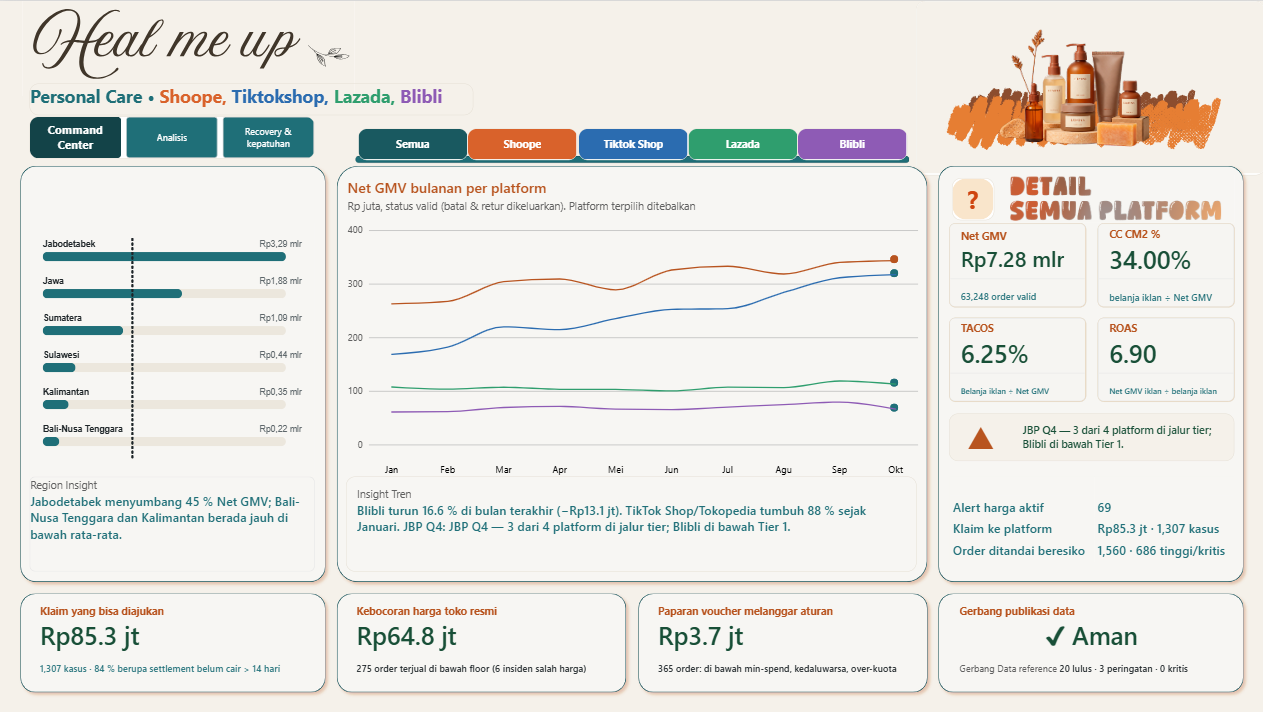

Layout of this report page (visuals, bound fields, positions):
{"tool":"powerbi","page":{"name":"Command Center","canvas":[1920,1080],"ordinal":0},"visuals":[{"type":"image","title":"gambar kanan atas","box":[1389.9,0,527.7,263.9],"z":0},{"type":"shape","title":"shape detail semua platform","box":[1416,240,480,648],"z":1000},{"type":"image","title":"Judul","box":[24,0,528,144],"z":2000},{"type":"pageNavigator","box":[48,176,432,64],"z":3000},{"type":"shape","title":"garis warna plat sel","box":[541,235,840,12],"z":4000},{"type":"shape","box":[24,240,480,648],"z":6000},{"type":"shape","box":[504,240,912,648],"z":7000},{"type":"cardVisual","title":"net gmv card","fields":{"Data":["_Measures.Rp Ringkas (CC Net GMV)"]},"box":[1440,336,208,128],"z":8000},{"type":"cardVisual","title":"cc cm2 card","fields":{"Data":["_Measures.CC CM2 %"]},"box":[1664,336,208,128],"z":9000},{"type":"cardVisual","title":"tacos card","fields":{"Data":["_Measures.CC TACOS"]},"box":[1440,480,208,128],"z":10000},{"type":"cardVisual","title":"roas card","fields":{"Data":["_Measures.ROAS"]},"box":[1664,480,208,128],"z":11000},{"type":"textbox","box":[1440,624,432,72],"z":12000},{"type":"shape","box":[24,888,480,168],"z":13000},{"type":"cardVisual","title":"JBP Q4","fields":{"Data":["_Measures.JBP Ringkas"]},"box":[1536,610,336,96],"z":14000},{"type":"cardVisual","title":"card tanda merah","fields":{"Data":["_Measures.JBP Ikon"]},"box":[1440,610,96,96],"z":15000},{"type":"image","box":[1512,264,360,72],"z":16000},{"type":"deneb7E15AEF80B9E4D4F8E12924291ECE89A","fields":{"dataset":["Region.region","_Measures.Region Net GMV"]},"box":[48,336,432,384],"z":17000},{"type":"cardVisual","fields":{"Data":["_Measures.Region Insight"]},"box":[48,720,432,144],"z":18000},{"type":"lineChart","title":"3 Net GMV bulanan per platform","fields":{"Category":["DimMonth.month_label"],"Series":["KPI_M.platform_code"],"Y":["_Measures.Net GMV Juta Akhir"]},"box":[528,265,864,456],"z":19000},{"type":"lineChart","title":"2 Net GMV bulanan per platform","fields":{"Category":["DimMonth.month_label"],"Series":["KPI_M.platform_code"],"Y":["_Measures.Net GMV Juta Pilih"]},"box":[528,265,864,456],"z":21500},{"type":"lineChart","title":"Net GMV bulanan per platform","fields":{"Category":["DimMonth.month_label"],"Series":["KPI_M.platform_code"],"Y":["_Measures.Net GMV Juta"]},"box":[528.6,267.1,864,456],"z":21750},{"type":"cardVisual","title":"insight tren pilih","fields":{"Data":["_Measures.Insight Tren Pilih"]},"box":[528,720,864,144],"z":22000},{"type":"tableEx","fields":{"Values":["RIngkasRows.label","_Measures.Ringkas Nilai"]},"box":[1440,720,432,144],"z":23000},{"type":"shape","box":[504,888,456,168],"z":24000},{"type":"shape","box":[960,888,456,168],"z":25000},{"type":"shape","box":[1416,888,480,168],"z":26000},{"type":"cardVisual","title":"card klaim yg bisa diajukan","fields":{"Data":["_Measures.Uang Klaim"]},"box":[48,912,432,120],"z":27000},{"type":"cardVisual","title":"Card kebocoran harga","fields":{"Data":["_Measures.Uang Kebocoran"]},"box":[528,912,408,120],"z":28000},{"type":"cardVisual","title":"Card paparan voucher","fields":{"Data":["_Measures.Uang Voucher"]},"box":[984,912,408,120],"z":29000},{"type":"cardVisual","title":"Card gerbang publikasi","fields":{"Data":["Ads.Gerbang Ikon"]},"box":[1440,912,432,120],"z":30000},{"type":"group","id":"g1","title":"Group 1","box":[544,192,832,48],"z":31000},{"type":"actionButton","title":"semua","box":[544,192,166.4,48],"z":33000,"group":"g1"},{"type":"actionButton","title":"tanya buka","box":[1444,268,64,64],"z":33000},{"type":"actionButton","box":[710.4,192,166.4,48],"z":34000,"group":"g1"},{"type":"textbox","box":[48,125,672,48],"z":35000},{"type":"actionButton","box":[876.8,192,166.4,48],"z":35000,"group":"g1"},{"type":"actionButton","box":[1043.2,192,166.4,48],"z":36000,"group":"g1"},{"type":"actionButton","box":[1209.6,192,166.4,48],"z":37000,"group":"g1"}]}

Visuals, with their boxes in screenshot pixels (x1, y1, x2, y2), scaled from the page's 1920x1080 canvas onto the 1263x712 screenshot:
"gambar kanan atas" image: box=[914, 0, 1261, 174]
"shape detail semua platform" shape: box=[931, 158, 1247, 585]
"Judul" image: box=[16, 0, 363, 95]
pageNavigator: box=[32, 116, 316, 158]
"garis warna plat sel" shape: box=[356, 155, 908, 163]
shape: box=[16, 158, 332, 585]
shape: box=[332, 158, 931, 585]
"net gmv card" cardVisual: box=[947, 222, 1084, 306]
"cc cm2 card" cardVisual: box=[1095, 222, 1231, 306]
"tacos card" cardVisual: box=[947, 316, 1084, 401]
"roas card" cardVisual: box=[1095, 316, 1231, 401]
textbox: box=[947, 411, 1231, 459]
shape: box=[16, 585, 332, 696]
"JBP Q4" cardVisual: box=[1010, 402, 1231, 465]
"card tanda merah" cardVisual: box=[947, 402, 1010, 465]
image: box=[995, 174, 1231, 222]
deneb7E15AEF80B9E4D4F8E12924291ECE89A - Region.region x _Measures.Region Net GMV: box=[32, 222, 316, 475]
cardVisual - _Measures.Region Insight: box=[32, 475, 316, 570]
"3 Net GMV bulanan per platform" lineChart: box=[347, 175, 916, 475]
"2 Net GMV bulanan per platform" lineChart: box=[347, 175, 916, 475]
"Net GMV bulanan per platform" lineChart: box=[348, 176, 916, 477]
"insight tren pilih" cardVisual: box=[347, 475, 916, 570]
tableEx - RIngkasRows.label x _Measures.Ringkas Nilai: box=[947, 475, 1231, 570]
shape: box=[332, 585, 632, 696]
shape: box=[632, 585, 931, 696]
shape: box=[931, 585, 1247, 696]
"card klaim yg bisa diajukan" cardVisual: box=[32, 601, 316, 680]
"Card kebocoran harga" cardVisual: box=[347, 601, 616, 680]
"Card paparan voucher" cardVisual: box=[647, 601, 916, 680]
"Card gerbang publikasi" cardVisual: box=[947, 601, 1231, 680]
"Group 1" group: box=[358, 127, 905, 158]
"semua" actionButton: box=[358, 127, 467, 158]
"tanya buka" actionButton: box=[950, 177, 992, 219]
actionButton: box=[467, 127, 577, 158]
textbox: box=[32, 82, 474, 114]
actionButton: box=[577, 127, 686, 158]
actionButton: box=[686, 127, 796, 158]
actionButton: box=[796, 127, 905, 158]
